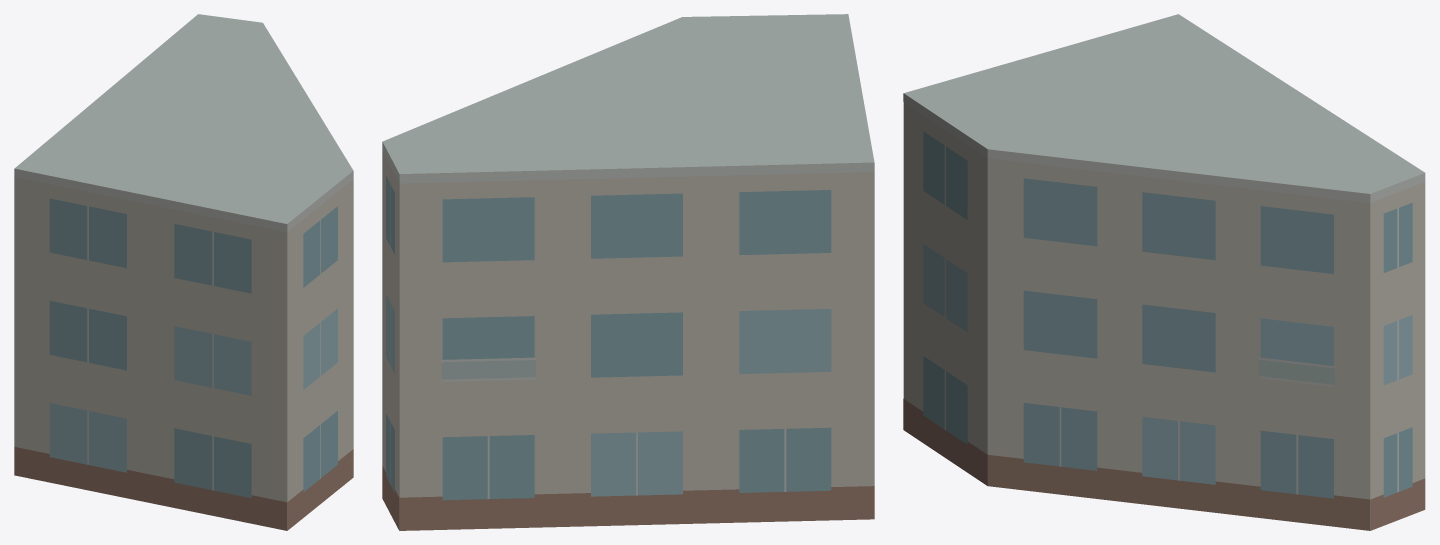
Rendered from survey-upis-32683738.glb.
3 renders of one model, left to right at view 1: azimuth 30°, elevation 25°; view 2: azimuth 150°, elevation 25°; view 3: azimuth 270°, elevation 25°, orthographic. The views are drawn at different scales.
Visible parts, largest first — view 1: survey-upis-32683738.tmp; view 2: survey-upis-32683738.tmp; view 3: survey-upis-32683738.tmp.
Boxes of the visible parts, x1,y1,x2,y2 form: survey-upis-32683738.tmp: [14, 14, 353, 530]; survey-upis-32683738.tmp: [382, 14, 874, 530]; survey-upis-32683738.tmp: [903, 14, 1425, 530].
Size of the model in its own units: 10.49 by 9.15 by 12.85.
